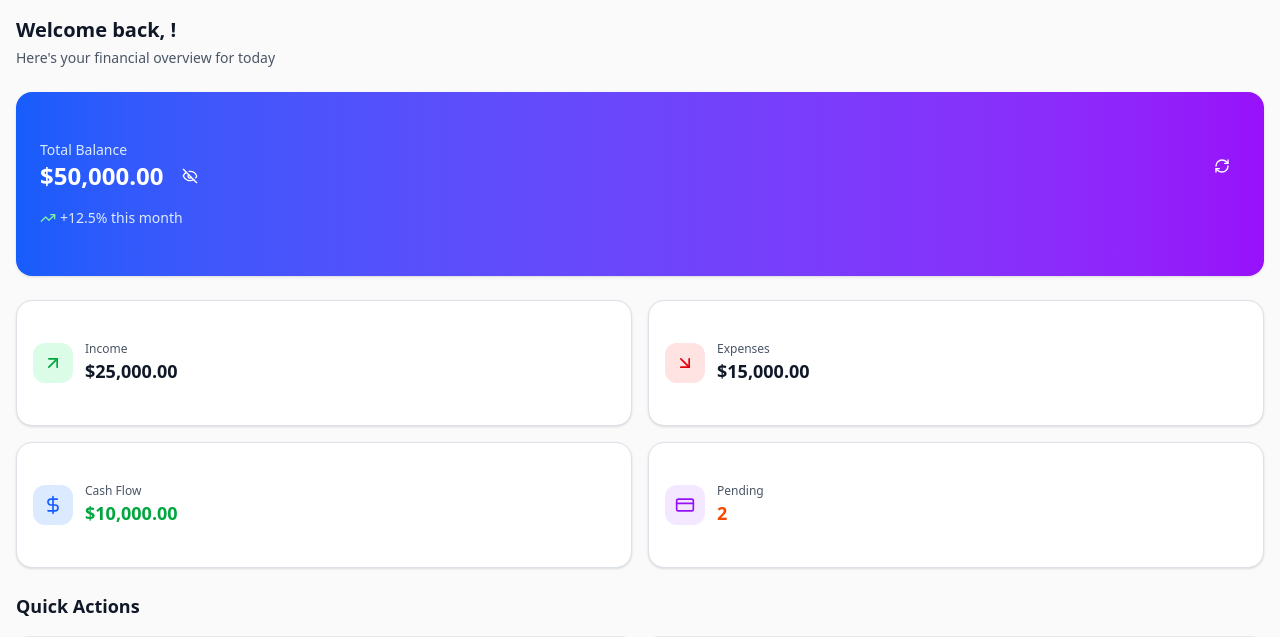
Test: MobileDashboard › toggles balance visibility
This screenshot has width=1280, height=637.
Expected: the text "$50,000.00" is shown, [40, 160, 164, 192]
Step 1. Click the button named "toggle balance visibility" → (190, 176), box [172, 160, 208, 192]
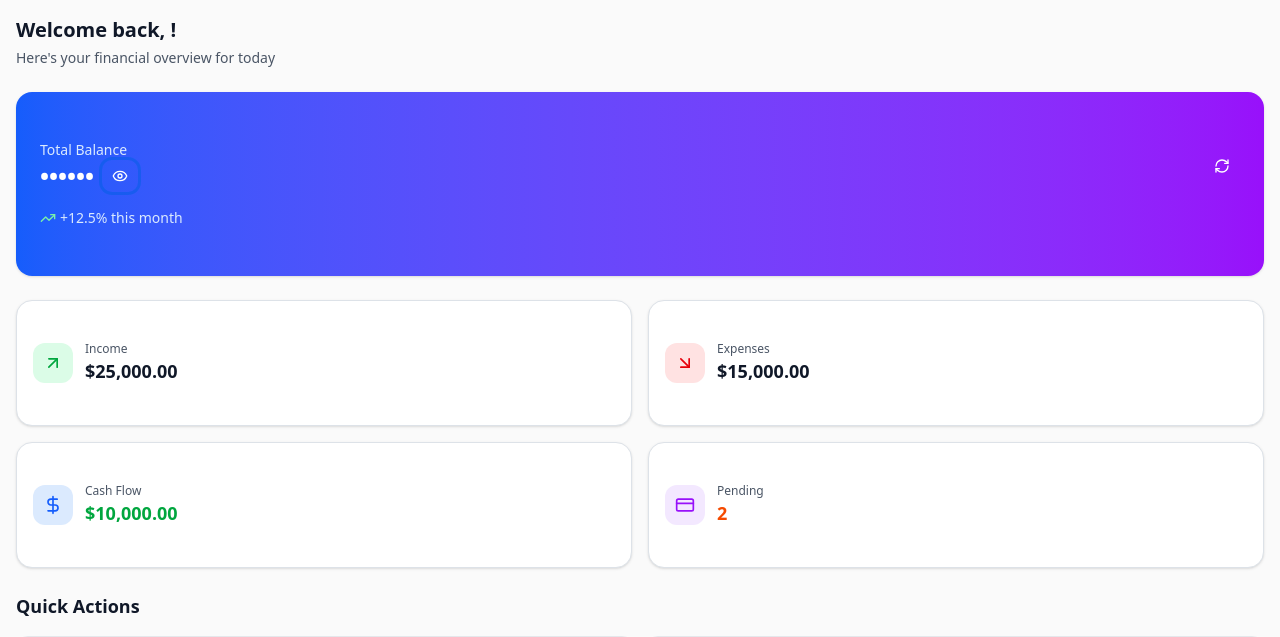
Expected: the text "••••••" is shown, [40, 160, 94, 192]
Expected: the text "$50,000" is gone
